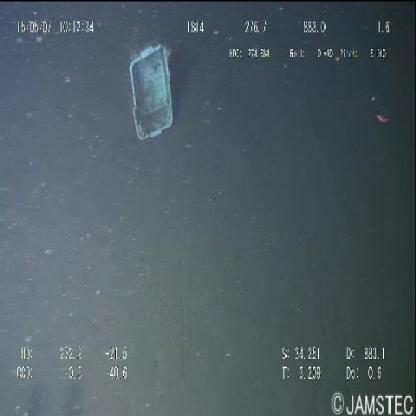Rác: (121, 34, 175, 146)
